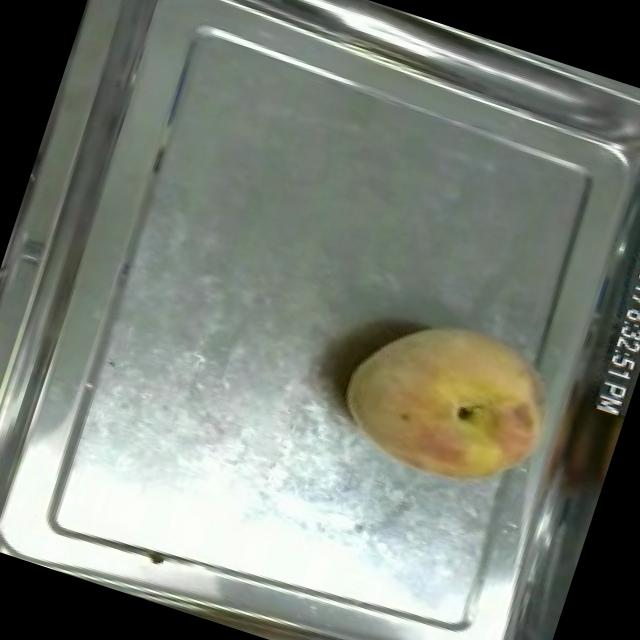Fruit: (317, 284, 581, 518)
